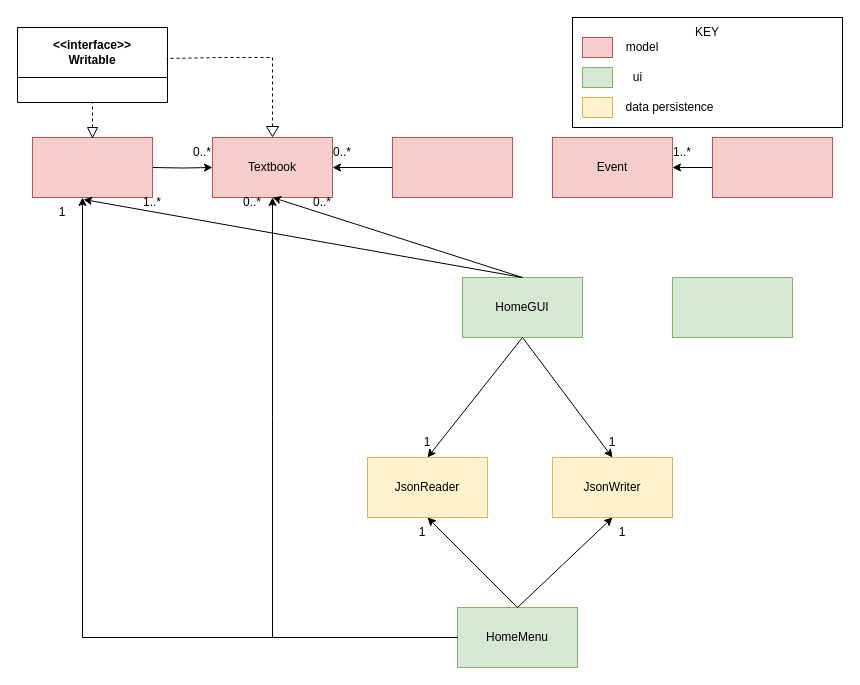
Image size: 860x685. Some labels were removed from this diagram. The centre of each missing label's shape, as x and y in pixels:
"Buyer" belongs at [92,167].
"EventLog" belongs at [772,167].
"Main" belongs at [732,307].
"Seller" belongs at [452,167].
